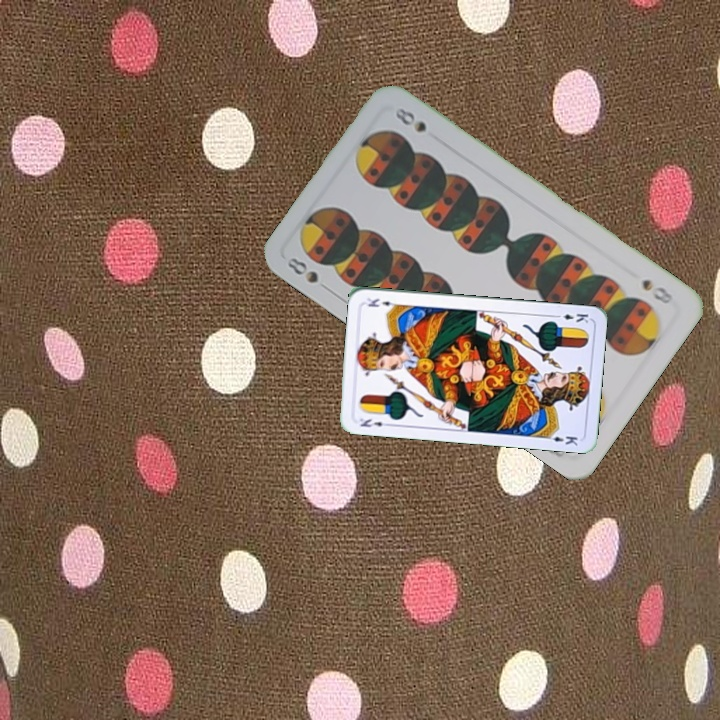EK: (551, 310, 591, 325), (356, 414, 393, 430)
S8: (283, 253, 334, 295), (637, 275, 676, 307)
